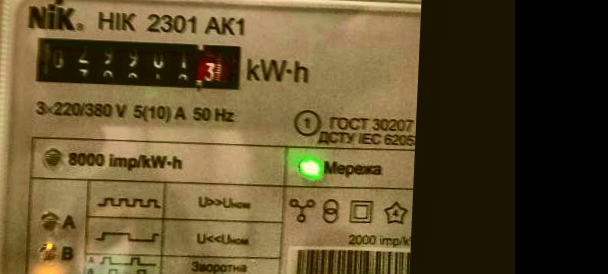0: (150, 44, 166, 70), (49, 46, 66, 68)
1: (176, 46, 190, 70)
2: (75, 45, 91, 64)
3: (202, 58, 216, 81)
9: (126, 45, 141, 67), (101, 44, 114, 66)
screen: (22, 25, 252, 99)
